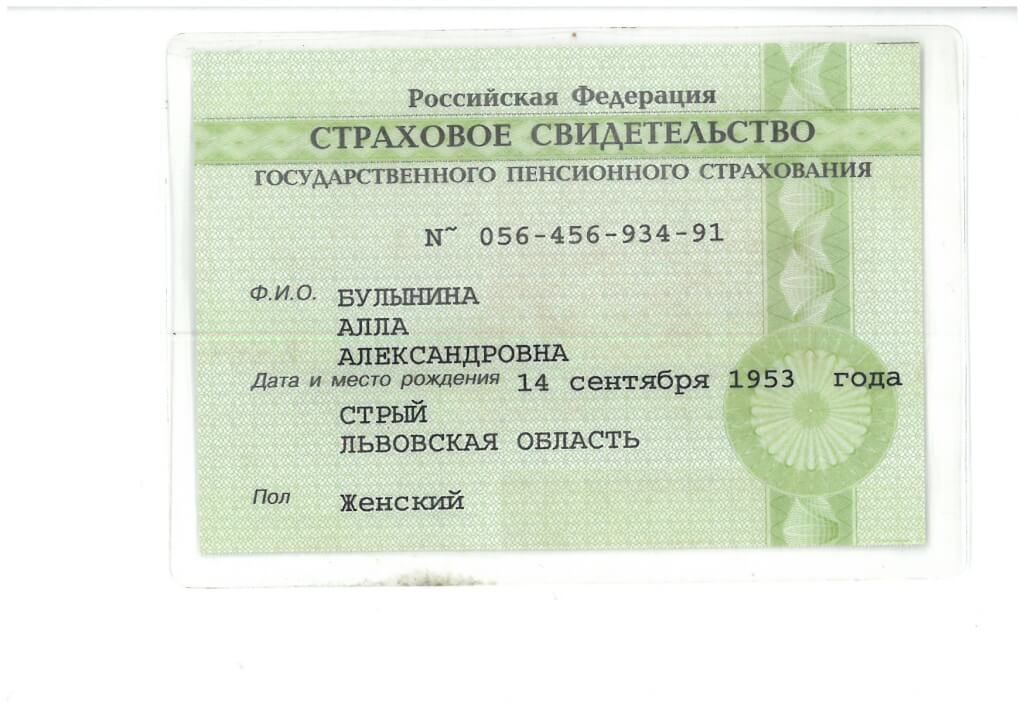text: (336, 400, 647, 454), (420, 218, 735, 254), (513, 369, 908, 396), (332, 340, 572, 367), (331, 281, 487, 312), (331, 486, 475, 519), (333, 308, 417, 340)
